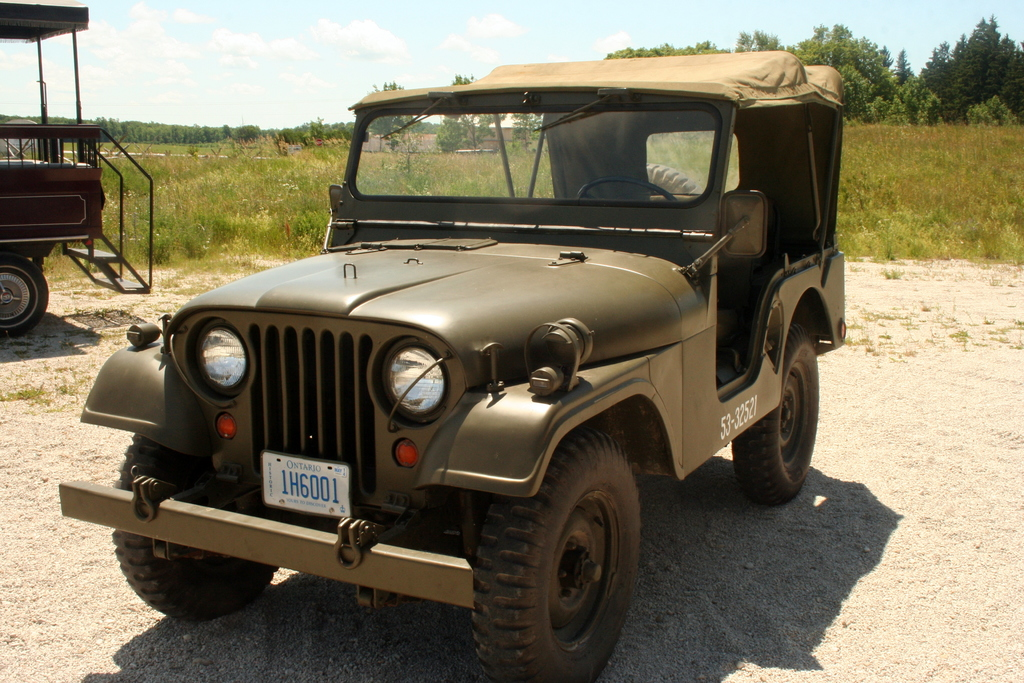Tree: (604, 24, 916, 126), (919, 12, 1023, 124), (0, 115, 354, 141), (433, 73, 544, 152), (351, 80, 419, 150)
